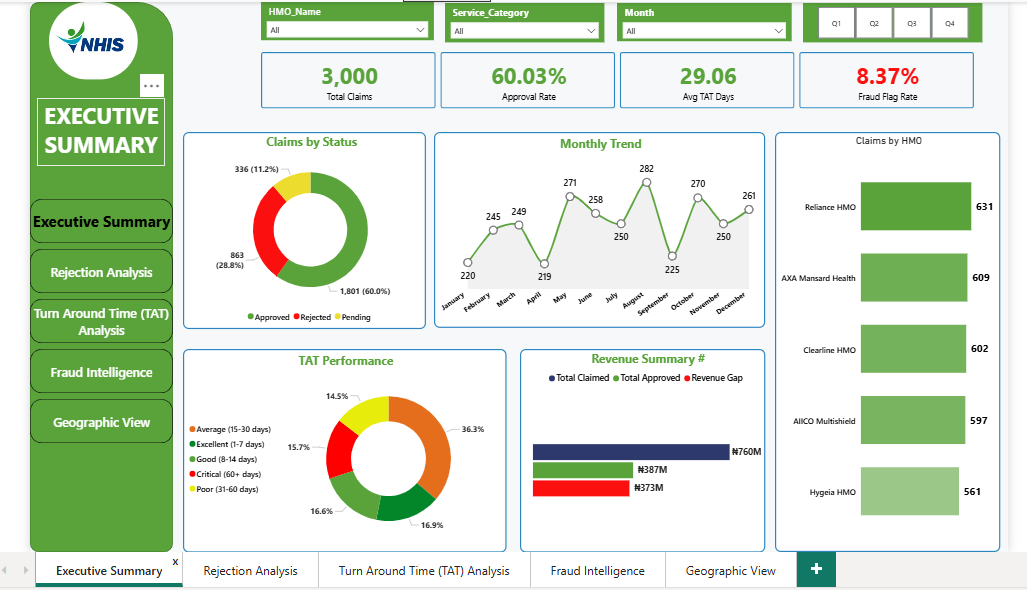

The page's visual inventory and layout, read from the dashboard file:
{"tool":"powerbi","page":{"name":"Executive Summary","canvas":[1664,935],"ordinal":1},"visuals":[{"type":"shape","box":[0,0,243.1,935],"z":0},{"type":"slicer","fields":{"Values":["Claims.HMO_Name"]},"box":[392.7,0,293.6,65.5],"z":0,"group":"g1"},{"type":"slicer","fields":{"Values":["Claims.Service_Category"]},"box":[706.2,1.9,271.1,67.3],"z":1000,"group":"g1"},{"type":"cardVisual","fields":{"Data":["Table of measure.Total Claims","Table of measure.Approval Rate","Table of measure.Avg TAT Days","Table of measure.Fraud Flag Rate"]},"box":[375.9,67.3,1249.2,130.9],"z":1000},{"type":"slicer","fields":{"Values":["datetable.Date.Variation.Date Hierarchy.Month"]},"box":[997.3,1.9,297.3,65.5],"z":2000,"group":"g1"},{"type":"donutChart","title":"Claims by Status","fields":{"Y":["Table of measure.Total Claims"],"Category":["Claims.Claim_Status"]},"box":[259.9,220.7,413.3,334.7],"z":2000},{"type":"slicer","fields":{"Values":["datetable.Quarter"]},"box":[1314.6,1.9,304.8,67.3],"z":3000,"group":"g1"},{"type":"areaChart","title":"Monthly Trend","fields":{"Category":["datetable.Date.Variation.Date Hierarchy.Month"],"Y":["Table of measure.Total Claims"]},"box":[686.3,220.7,562.9,332.9],"z":3000},{"type":"clusteredBarChart","title":"Revenue Summary #","fields":{"Y":["Table of measure.Total Claimed","Table of measure.Total Approved","Table of measure.Revenue Gap"]},"box":[832.1,589,417,345.9],"z":4000},{"type":"clusteredBarChart","title":"Claims by HMO","fields":{"Category":["Claims.HMO_Name"],"Y":["Table of measure.Total Claims"]},"box":[1266,220.7,383.3,714.3],"z":5000},{"type":"donutChart","title":"TAT Performance","fields":{"Y":["Table of measure.Total Claims"],"Category":["Claims.TAT_Category"]},"box":[259.9,589,549.8,345.9],"z":6000},{"type":"image","box":[31.7,0,151.2,132.5],"z":7000},{"type":"pageNavigator","box":[0,334.7,243.1,415.1],"z":8000},{"type":"group","id":"g1","title":"Group 1","box":[392.7,0,1226.7,69.2],"z":9000},{"type":"textbox","box":[11.2,162.7,218.8,115.9],"z":10000}]}

Visuals, with their boxes on the page's 1664x935 design canvas (x1, y1, x2, y2). These are canvas units, not pixel positions in the 1027x590 screenshot, which may show the page scaled, cropped or inside an application window:
shape: pyautogui.locateOnScreen(0, 0, 243, 935)
slicer - Claims.HMO_Name: pyautogui.locateOnScreen(393, 0, 686, 66)
slicer - Claims.Service_Category: pyautogui.locateOnScreen(706, 2, 977, 69)
cardVisual - Table of measure.Total Claims x Table of measure.Approval Rate: pyautogui.locateOnScreen(376, 67, 1625, 198)
slicer - datetable.Date.Variation.Date Hierarchy.Month: pyautogui.locateOnScreen(997, 2, 1295, 67)
"Claims by Status" donutChart: pyautogui.locateOnScreen(260, 221, 673, 555)
slicer - datetable.Quarter: pyautogui.locateOnScreen(1315, 2, 1619, 69)
"Monthly Trend" areaChart: pyautogui.locateOnScreen(686, 221, 1249, 554)
"Revenue Summary #" clusteredBarChart: pyautogui.locateOnScreen(832, 589, 1249, 935)
"Claims by HMO" clusteredBarChart: pyautogui.locateOnScreen(1266, 221, 1649, 935)
"TAT Performance" donutChart: pyautogui.locateOnScreen(260, 589, 810, 935)
image: pyautogui.locateOnScreen(32, 0, 183, 132)
pageNavigator: pyautogui.locateOnScreen(0, 335, 243, 750)
"Group 1" group: pyautogui.locateOnScreen(393, 0, 1619, 69)
textbox: pyautogui.locateOnScreen(11, 163, 230, 279)
